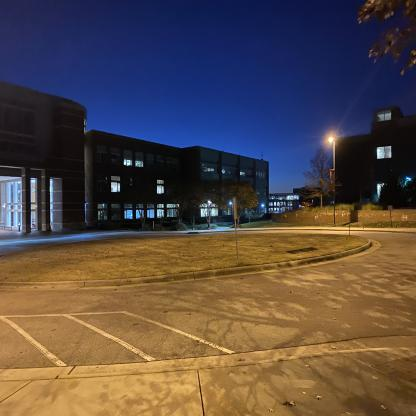eb2: (4, 84, 271, 235)
